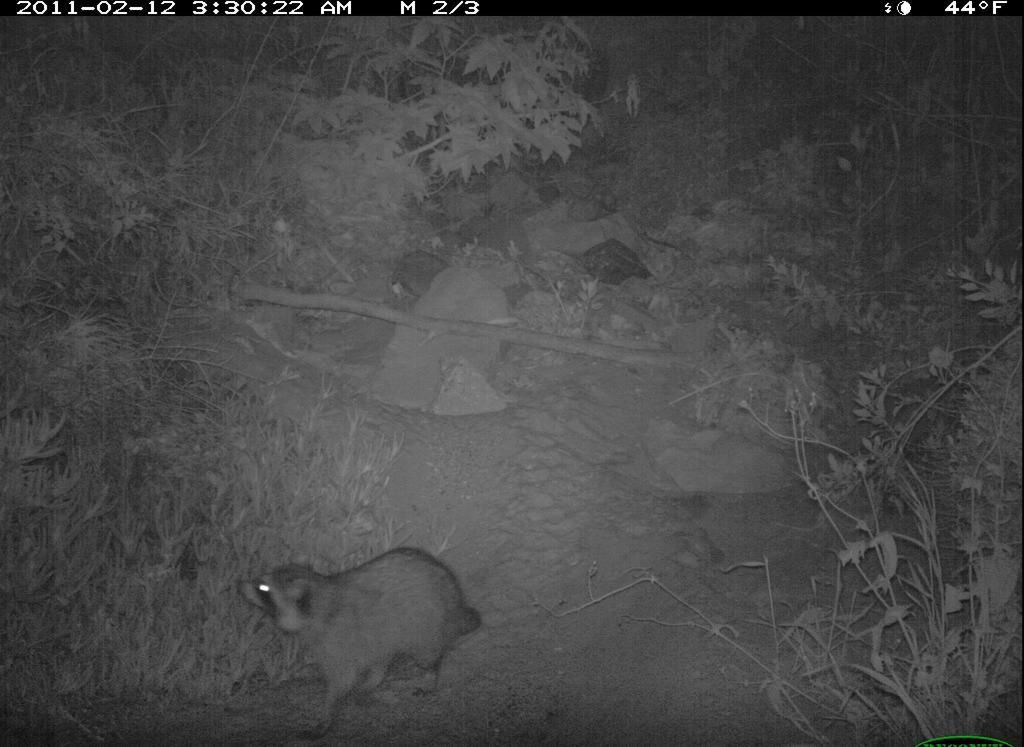raccoon: (219, 533, 501, 739)
